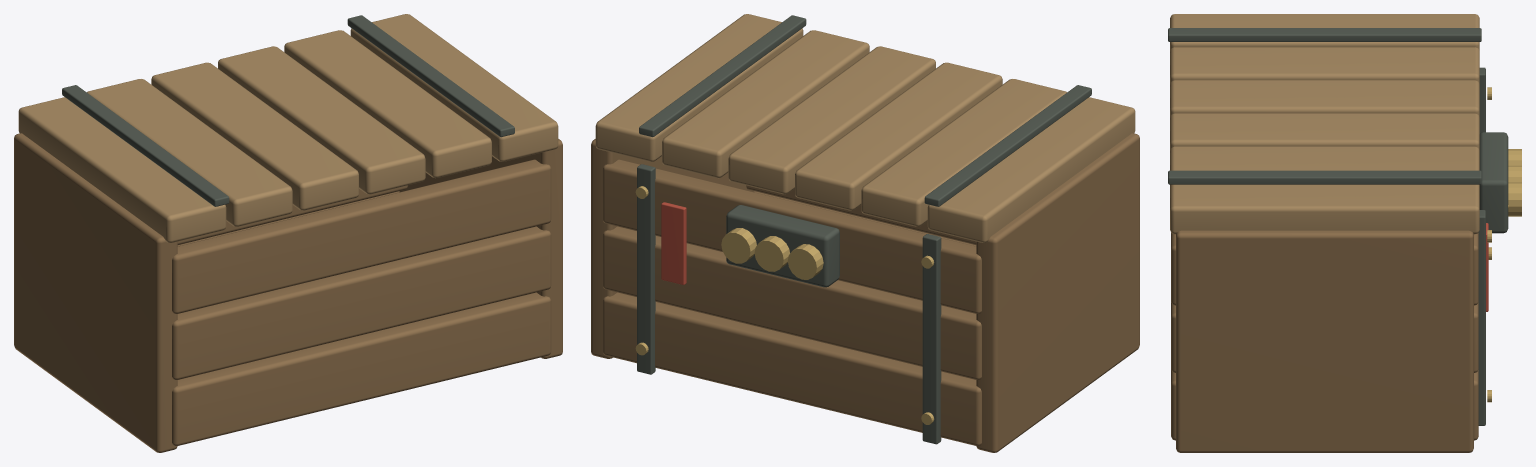
Rendered from SupplyChest.fbx.
The picture shows the model from 3 angles, left to right: view 1: azimuth 30°, elevation 25°; view 2: azimuth 150°, elevation 25°; view 3: azimuth 270°, elevation 25°; orthographic projection. The views are drawn at different scales.
Visible parts, largest first — view 1: ChestSide, ChestPlank.002, ChestPlank, ChestPlank.001, LidSlat, LidSlat.002, LidSlat.003, LidSlat.004, LidSlat.001, LidSlat.005, ChestSide.001, LidBand.001 (+2 smaller); view 2: ChestSide, ChestPlank.003, ChestPlank.004, ChestPlank.005, LidSlat, LidSlat.002, LidSlat.003, LidSlat.004, LidSlat.001, LidSlat.005, ChestLock, ChestSide.001 (+9 smaller); view 3: ChestSide.001, LidSlat.005, LidSlat.001, LidSlat.002, LidSlat.003, LidSlat.004, LidSlat, LidBand.001, LidBand, ChestLock, ChestBand.001, CombinationDial.002 (+2 smaller).
Part boxes in pixels (x1,y1,x2,y2): ChestSide: [14, 133, 177, 452]; ChestPlank.002: [172, 159, 551, 313]; ChestPlank: [172, 292, 551, 445]; ChestPlank.001: [172, 226, 551, 379]; LidSlat: [18, 97, 226, 242]; LidSlat.002: [151, 62, 358, 210]; LidSlat.003: [218, 46, 425, 194]; LidSlat.004: [284, 30, 491, 177]; LidSlat.001: [87, 79, 292, 226]; LidSlat.005: [350, 14, 558, 161]; ChestSide.001: [399, 139, 562, 358]; LidBand.001: [347, 15, 514, 137]; ChestSide: [976, 133, 1139, 452]; ChestPlank.003: [602, 292, 981, 445]; ChestPlank.004: [602, 226, 981, 379]; ChestPlank.005: [602, 159, 981, 313]; LidSlat: [927, 97, 1135, 242]; LidSlat.002: [795, 62, 1002, 210]; LidSlat.003: [728, 46, 935, 194]; LidSlat.004: [662, 30, 869, 177]; LidSlat.001: [861, 79, 1066, 226]; LidSlat.005: [595, 14, 803, 161]; ChestLock: [726, 205, 839, 287]; ChestSide.001: [591, 139, 754, 358]; ChestSide.001: [1176, 230, 1473, 452]; LidSlat.005: [1170, 184, 1479, 234]; LidSlat.001: [1170, 47, 1479, 83]; LidSlat.002: [1170, 80, 1479, 117]; LidSlat.003: [1170, 113, 1479, 150]; LidSlat.004: [1170, 146, 1479, 170]; LidSlat: [1170, 14, 1479, 50]; LidBand.001: [1168, 170, 1481, 184]; LidBand: [1168, 28, 1481, 41]; ChestLock: [1479, 132, 1508, 233]; ChestBand.001: [1478, 210, 1485, 425]; CombinationDial.002: [1508, 182, 1521, 216].
Bounding box in the file's own units: 122 × 70.6 × 90.25.
